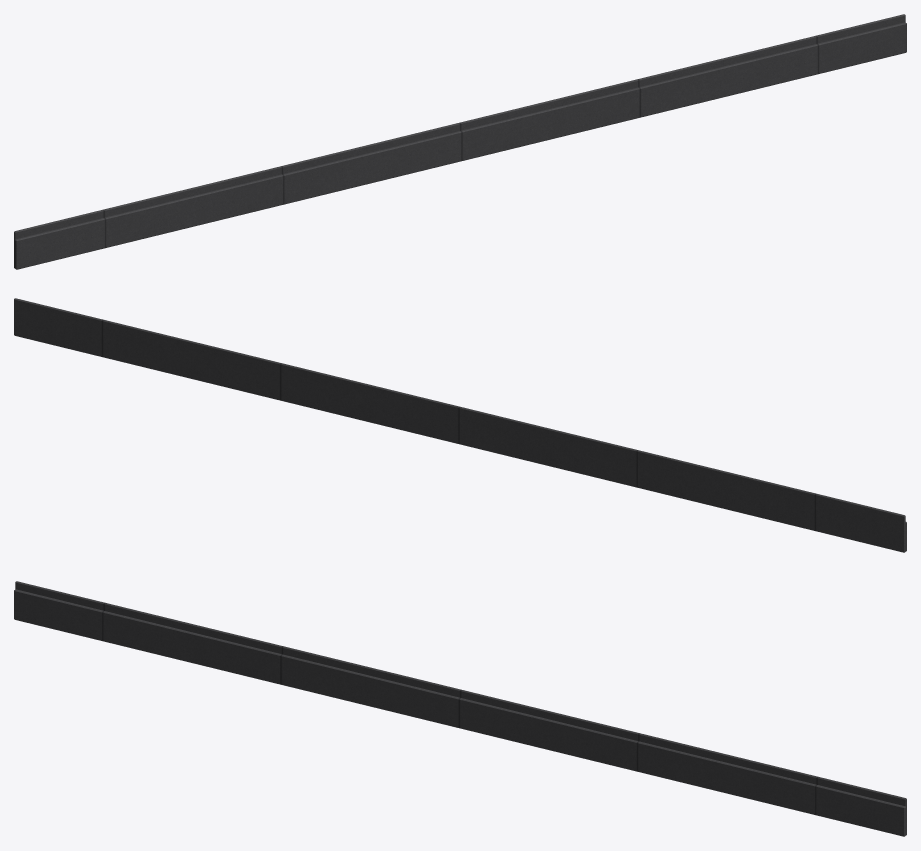
The model's file is gteki_trim_skirting_3000_granite.glb.
3 renders of one model, top to bottom at view 1: azimuth 30°, elevation 25°; view 2: azimuth 150°, elevation 25°; view 3: azimuth 330°, elevation 25°, orthographic.
Visible parts, largest first — view 1: VIS_trim; view 2: VIS_trim; view 3: VIS_trim.
Part boxes in pixels (<box>): VIS_trim: <box>14,14,906,269</box>; VIS_trim: <box>14,298,906,552</box>; VIS_trim: <box>14,581,906,836</box>.
Bounding box in the file's own units: 3 × 0.12 × 0.016.
Materials: 1 (1 with a texture image).
